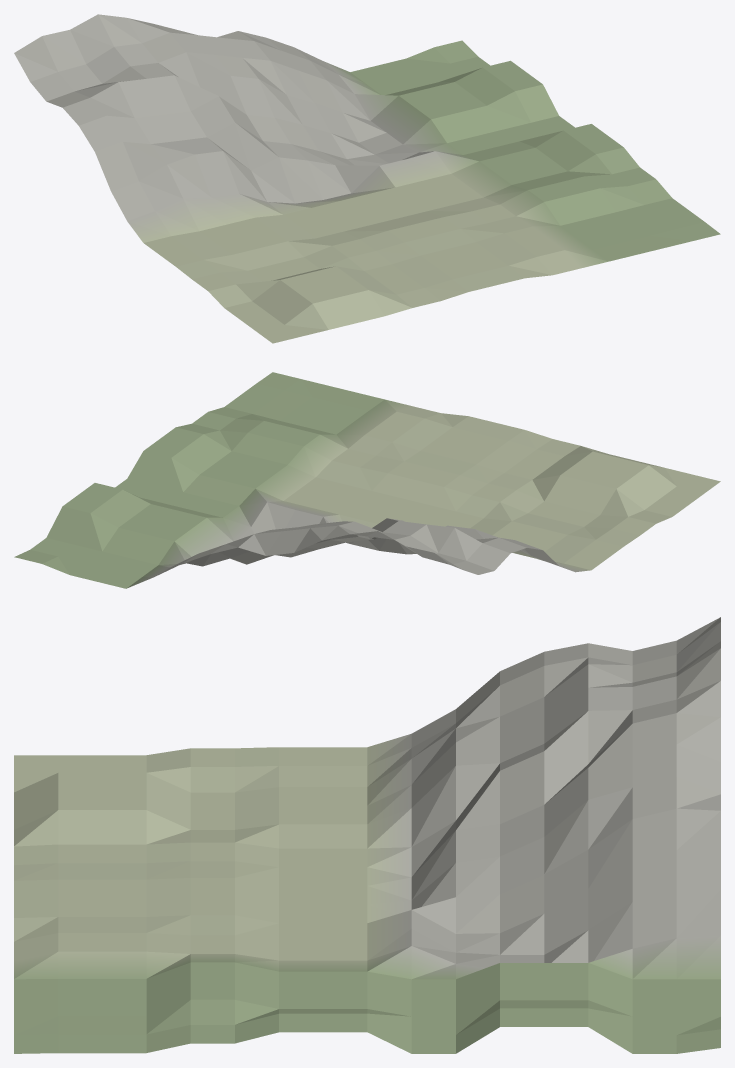
3 renders of one model, top to bottom at view 1: azimuth 30°, elevation 25°; view 2: azimuth 150°, elevation 25°; view 3: azimuth 270°, elevation 25°, orthographic. The views are drawn at different scales.
Size of the model in its own units: 32 by 8.89 by 32.
